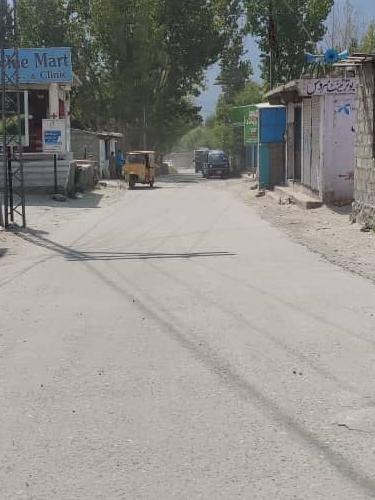sharp_turn: (55, 137, 323, 500)
